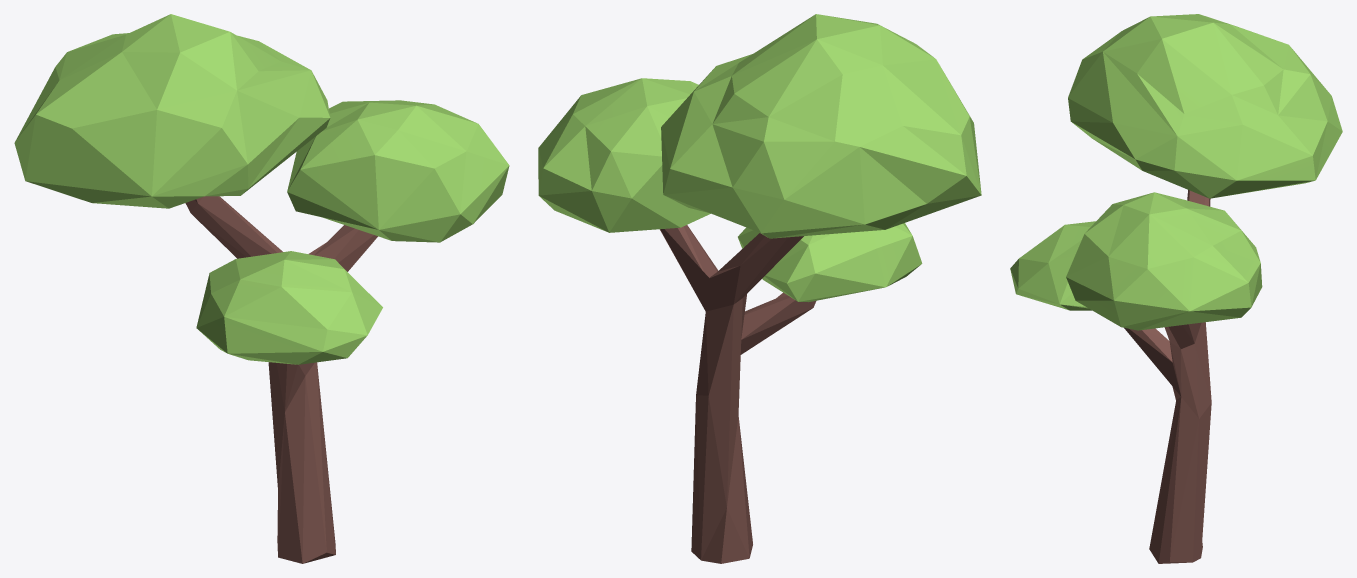
The model's file is tree-branched.glb.
3 views of the same model, side by side, from view 1: azimuth 30°, elevation 25°; view 2: azimuth 150°, elevation 25°; view 3: azimuth 270°, elevation 25° (orthographic). The views are drawn at different scales.
Visible parts, largest first — view 1: leaves, trunk; view 2: leaves, trunk; view 3: leaves, trunk.
Boxes of the visible parts, x1,y1,x2,y2 form: leaves: (14, 14, 509, 364); trunk: (185, 196, 377, 563); leaves: (538, 14, 981, 302); trunk: (660, 225, 816, 563); leaves: (1010, 14, 1342, 330); trunk: (1124, 190, 1211, 563).
Size of the model in its own units: 7.34 by 8.72 by 5.43.
